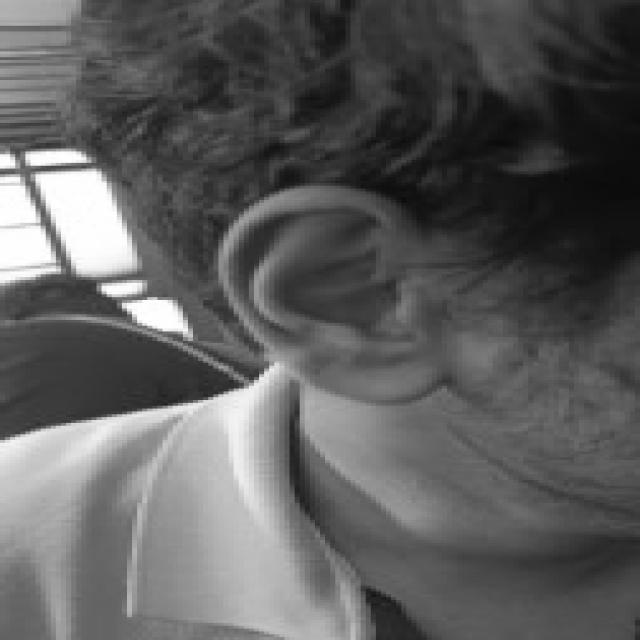ear: (223, 186, 437, 400)
